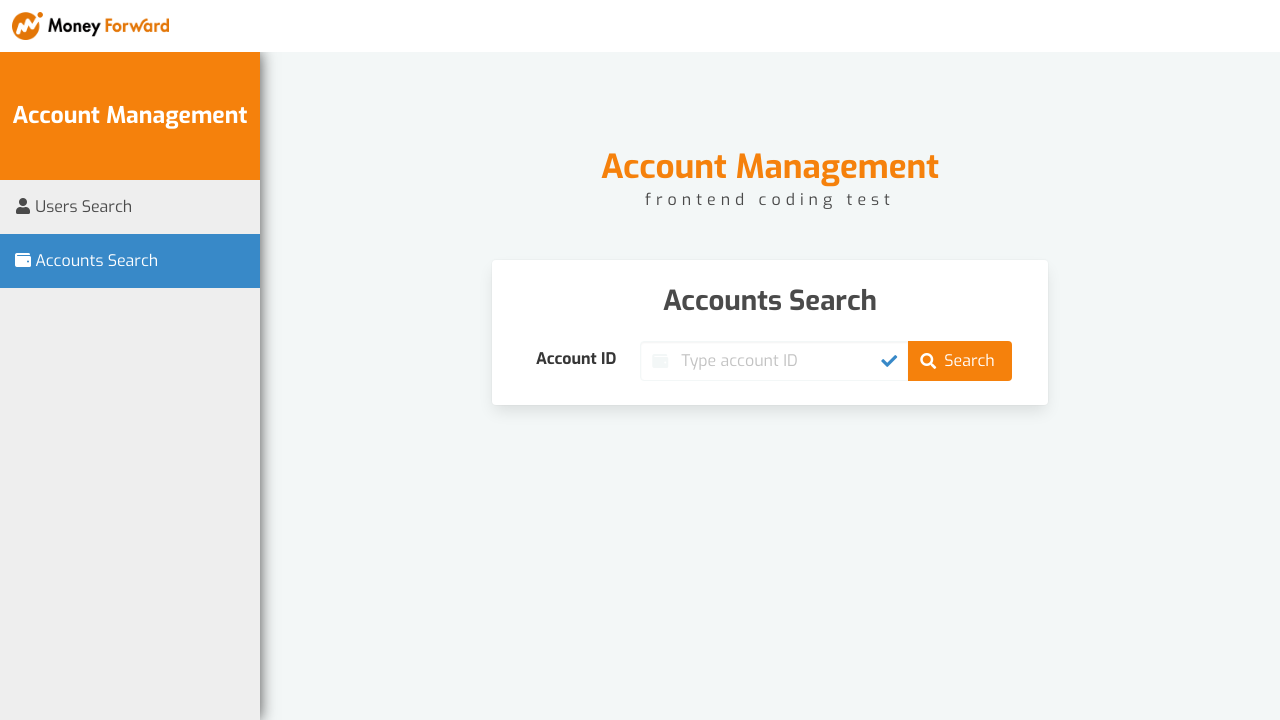
Test: Accounts Search › Should submit account search form
Type "1" into the field with placeholder "Type account ID".
click(775, 361); type("1")  # box 640,341 -> 909,381
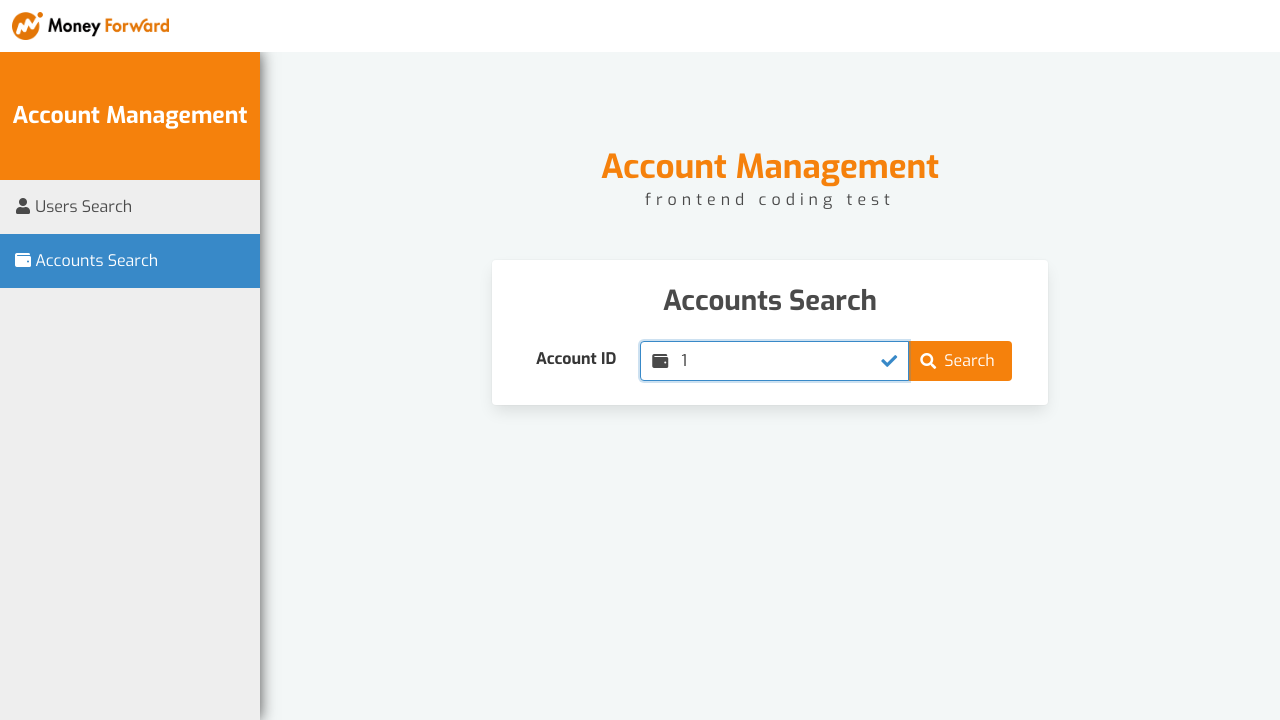
// Click search button
Click the button "Search".
click(960, 361)  # box 908,341 -> 1012,381
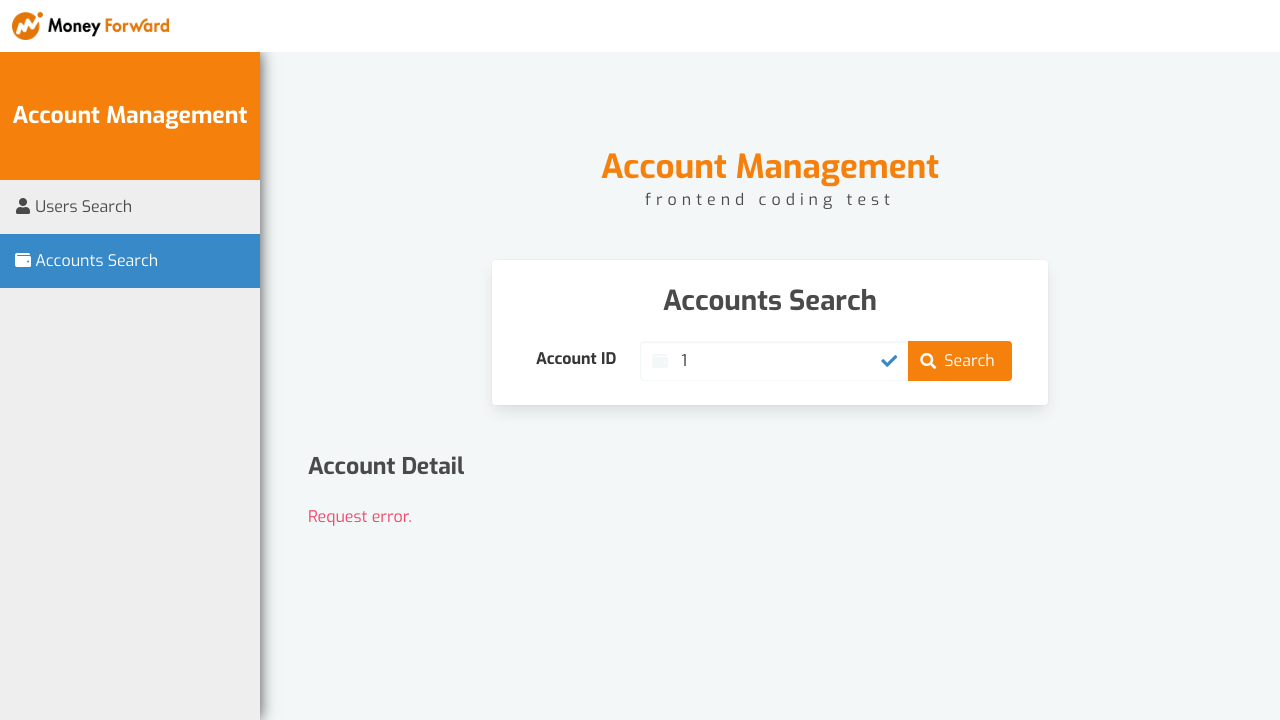
Now the heading "Account Detail" is shown, box 308,451 -> 464,482
